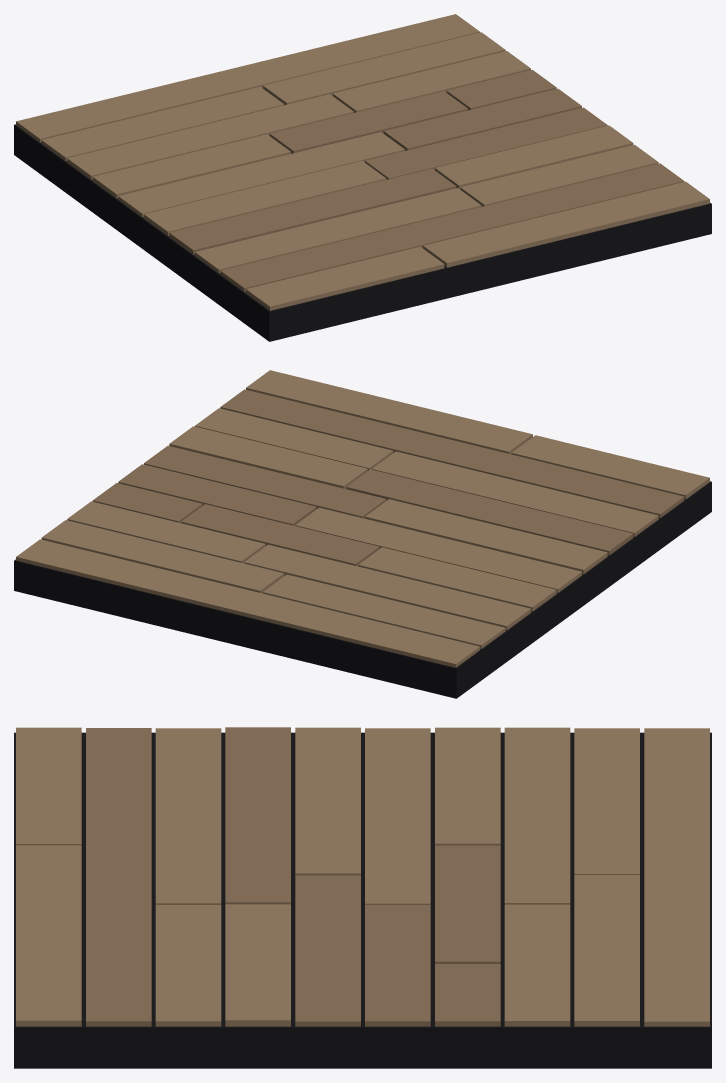
The model's file is floor_boards.glb.
The picture shows the model from 3 angles, top to bottom: view 1: azimuth 30°, elevation 25°; view 2: azimuth 150°, elevation 25°; view 3: azimuth 270°, elevation 25°; orthographic projection. The views are drawn at different scales.
Parts seen in each view (by area): view 1: floor_boards; view 2: floor_boards; view 3: floor_boards.
Part boxes in pixels (box(x1,y1,x2,y2)): floor_boards: box(14, 14, 711, 341); floor_boards: box(14, 370, 711, 698); floor_boards: box(14, 727, 711, 1068).
Bounding box in the file's own units: 4 × 0.2997 × 4.
